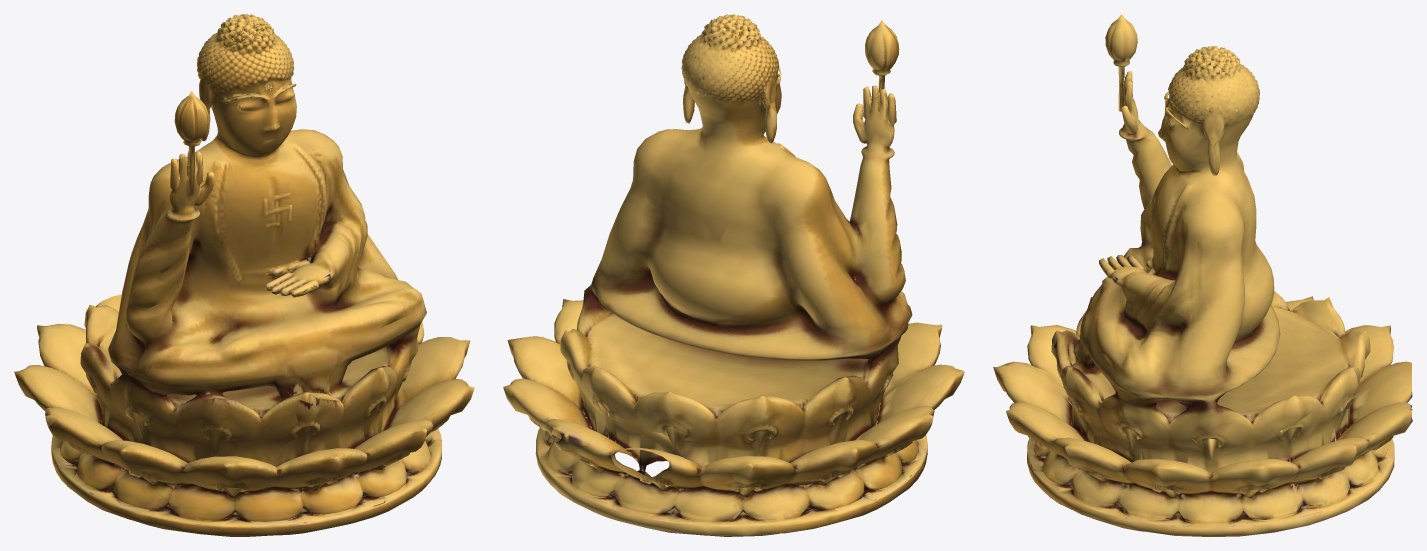
Rendered from thichca.glb.
3 renders of one model, left to right at view 1: azimuth 30°, elevation 25°; view 2: azimuth 150°, elevation 25°; view 3: azimuth 270°, elevation 25°, orthographic. The views are drawn at different scales.
Parts seen in each view (by area): view 1: thichca; view 2: thichca; view 3: thichca.
Boxes of the visible parts, box(x1,y1,x2,y2) form: thichca: box(14, 14, 474, 536); thichca: box(503, 14, 964, 536); thichca: box(993, 14, 1412, 536).
Size of the model in its own units: 2.67 by 2.8 by 2.59.
Materials: 1 (1 with a texture image).
